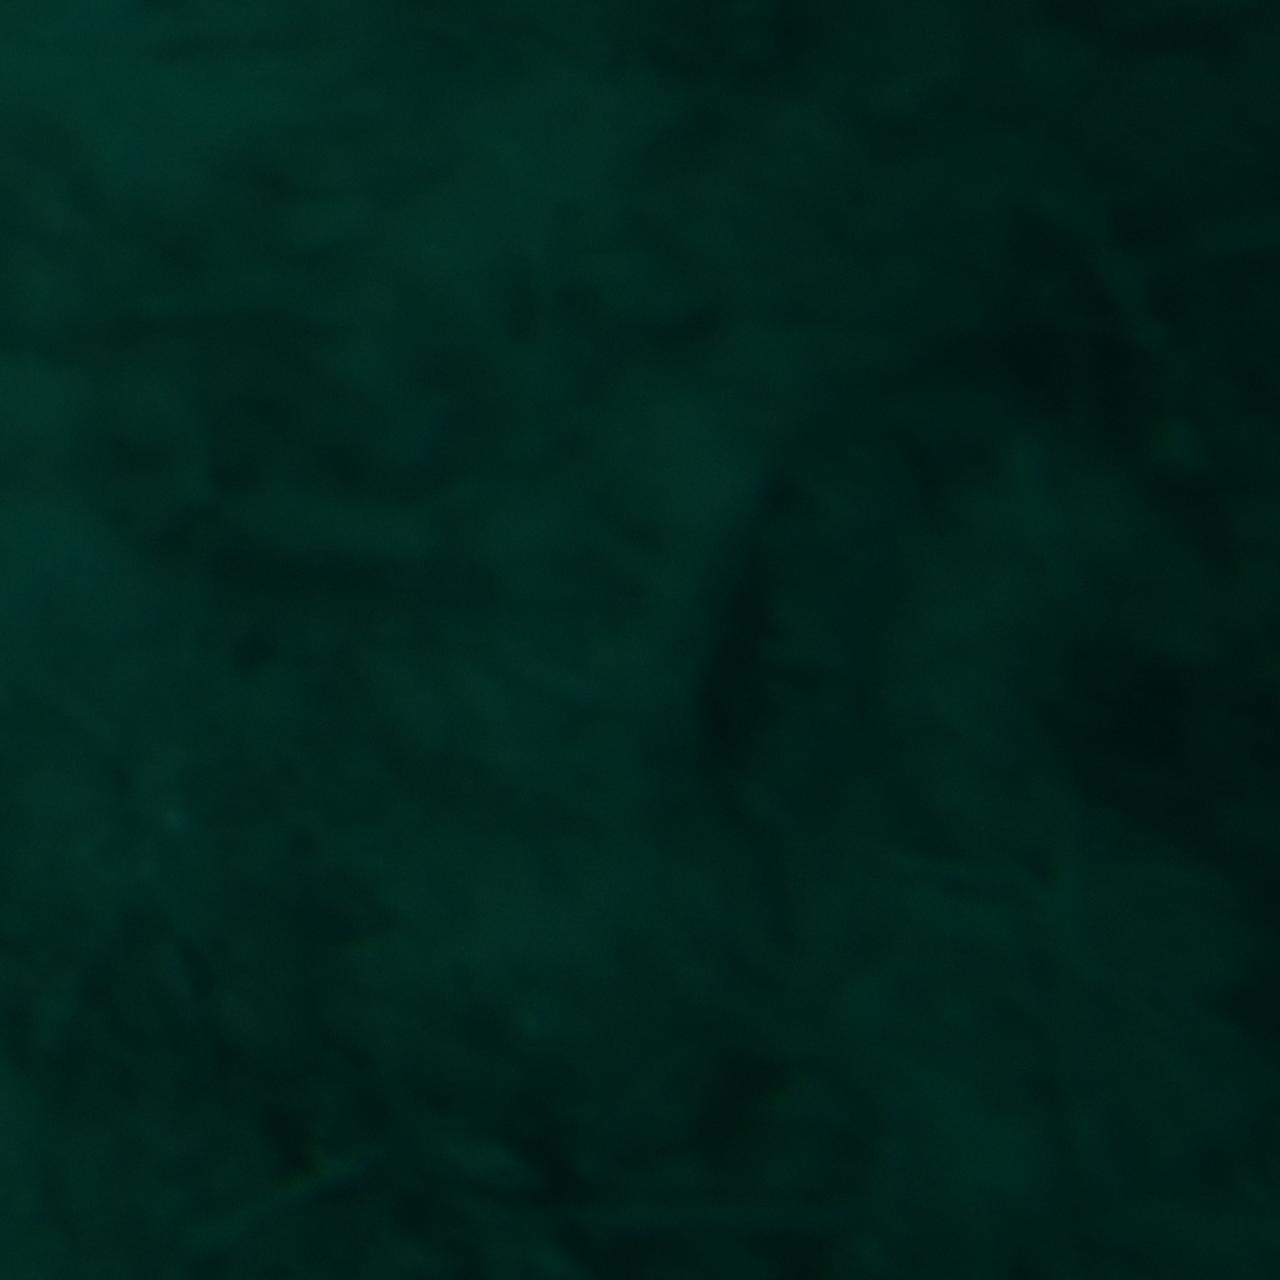Holothuria tubulosa: (700, 318, 1140, 962)
